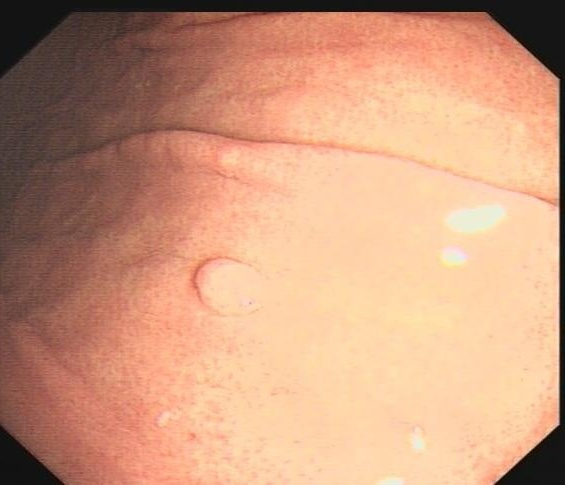Polyp: (189, 253, 271, 318)
